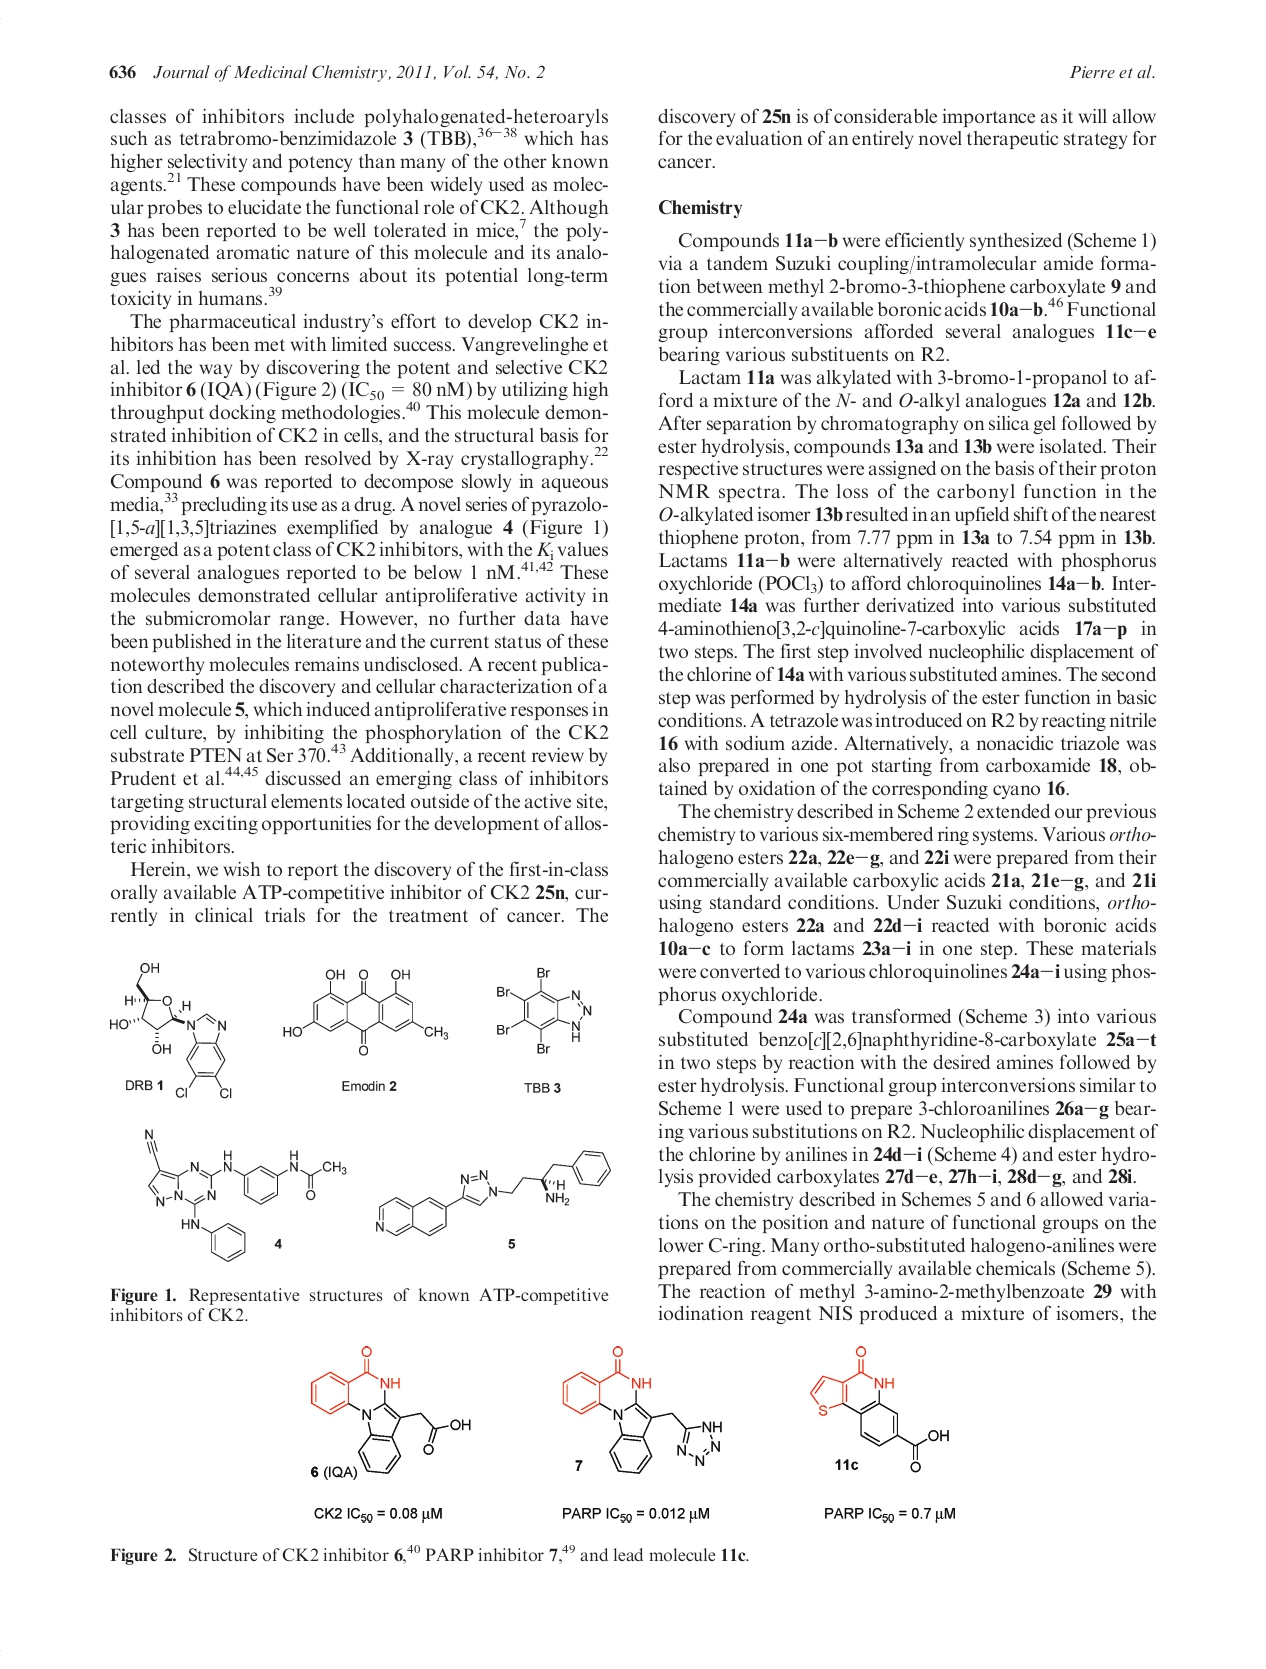exist_molecular: (133, 1121, 351, 1266), (372, 1140, 613, 1239), (310, 1337, 476, 1476), (561, 1345, 727, 1476), (104, 952, 235, 1106), (809, 1341, 953, 1477), (277, 954, 452, 1057), (488, 954, 594, 1059)
